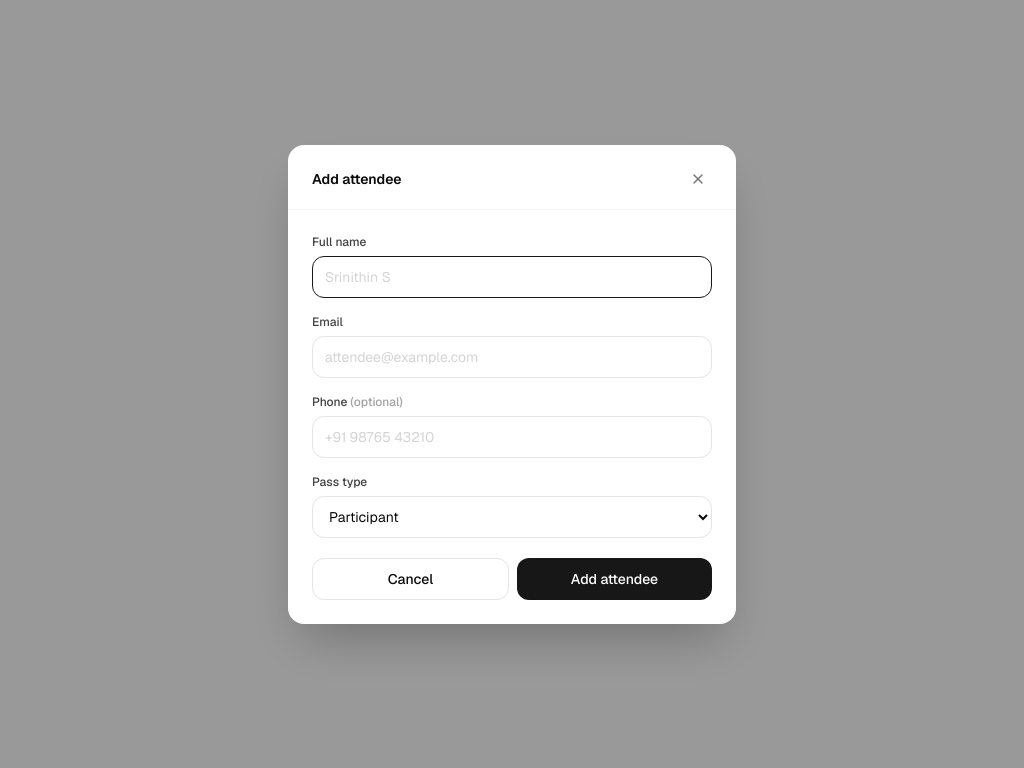
it: AddAttendeeModal › shows validation errors on empty submit
The width and height of the screenshot is (1024, 768).
Click the button "Add attendee": {"x": 614, "y": 578} 517,558 -> 712,600
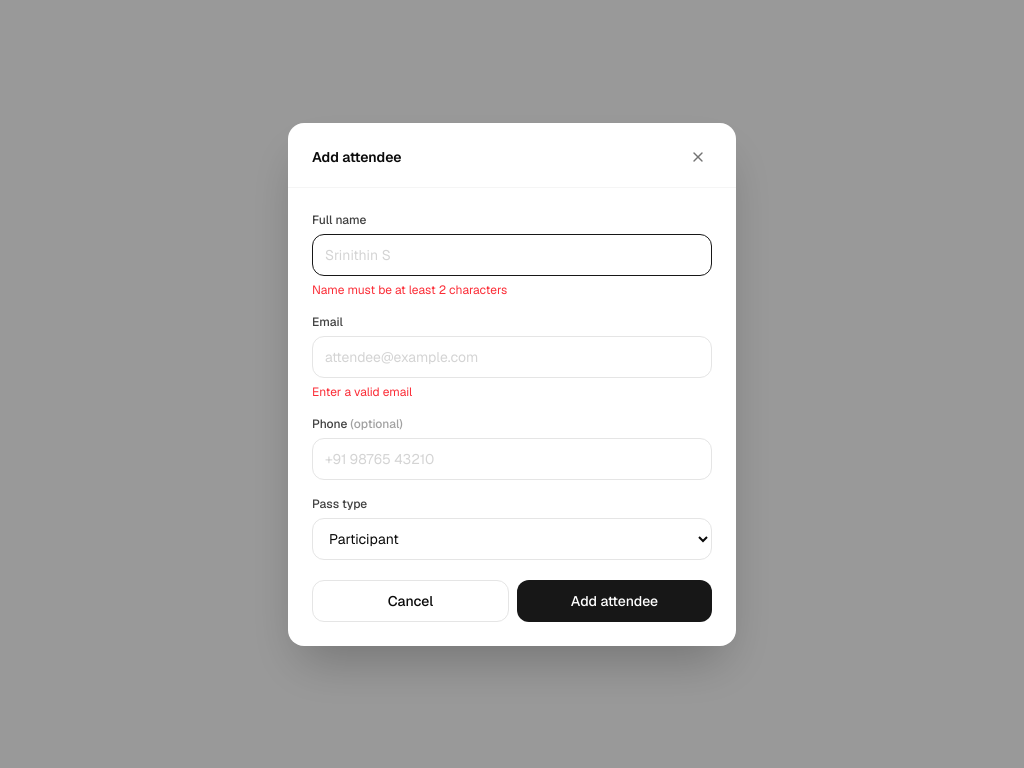
Check: the text "Name must be at least 2 characters" is shown, box 312,282 -> 507,298
